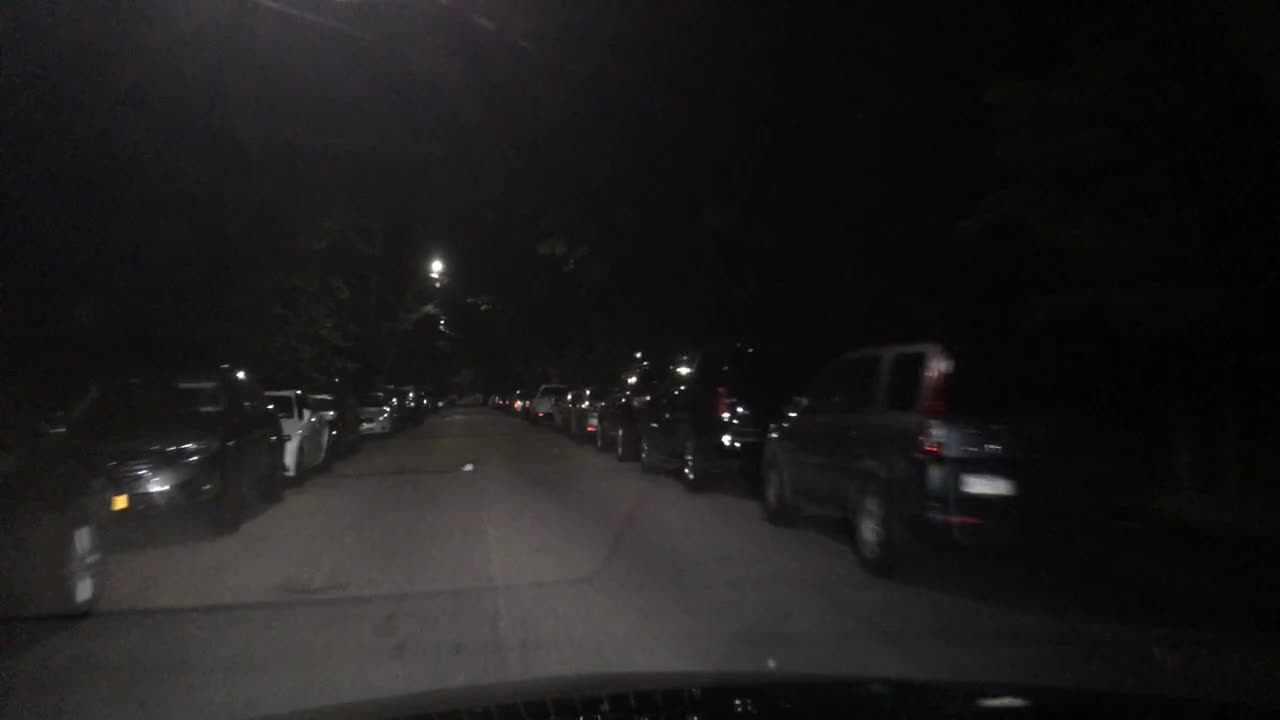car: (761, 341, 1127, 577), (61, 363, 289, 531), (638, 341, 811, 489), (0, 411, 107, 616), (596, 363, 673, 457), (262, 386, 331, 482), (306, 390, 360, 450), (566, 386, 612, 441), (354, 388, 398, 437), (526, 383, 567, 421), (549, 389, 585, 430), (394, 383, 427, 425), (502, 388, 532, 416), (416, 385, 436, 411), (487, 391, 507, 409), (432, 391, 452, 408)
